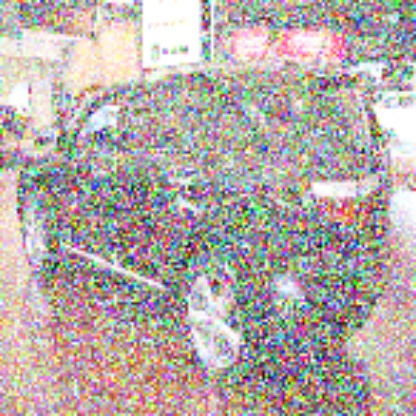Vehicle: (16, 60, 395, 386)
